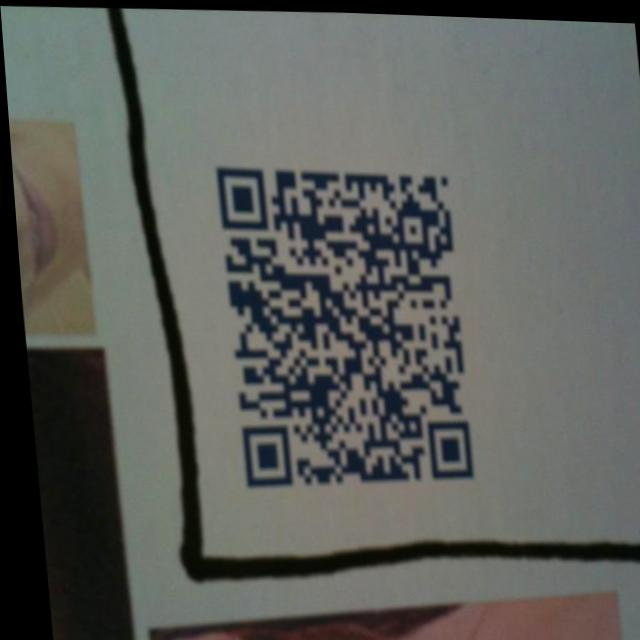qrcode: (215, 163, 470, 492)
